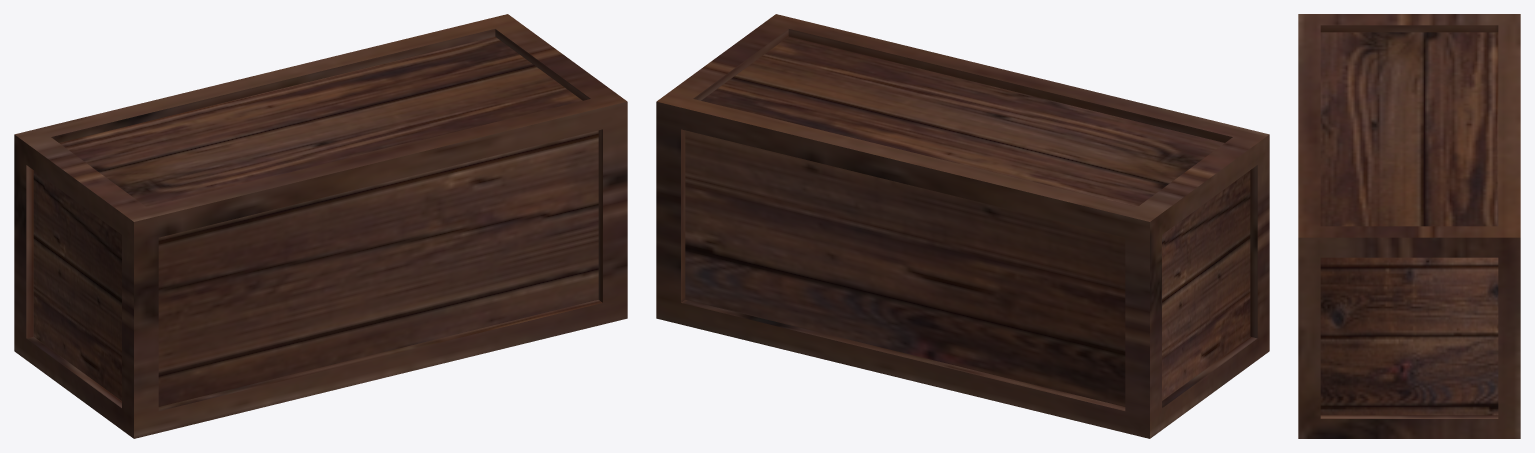
The model's file is WIDEbox.fbx.
3 renders of one model, left to right at view 1: azimuth 30°, elevation 25°; view 2: azimuth 150°, elevation 25°; view 3: azimuth 270°, elevation 25°, orthographic. The views are drawn at different scales.
Visible parts, largest first — view 1: WIDE box; view 2: WIDE box; view 3: WIDE box.
Boxes of the visible parts, x1=… form: WIDE box: x1=14, y1=14, x2=627, y2=438; WIDE box: x1=656, y1=14, x2=1269, y2=438; WIDE box: x1=1298, y1=14, x2=1520, y2=438.
Size of the model in its own units: 476 by 200 by 200.
Materials: 1 (1 with a texture image).
